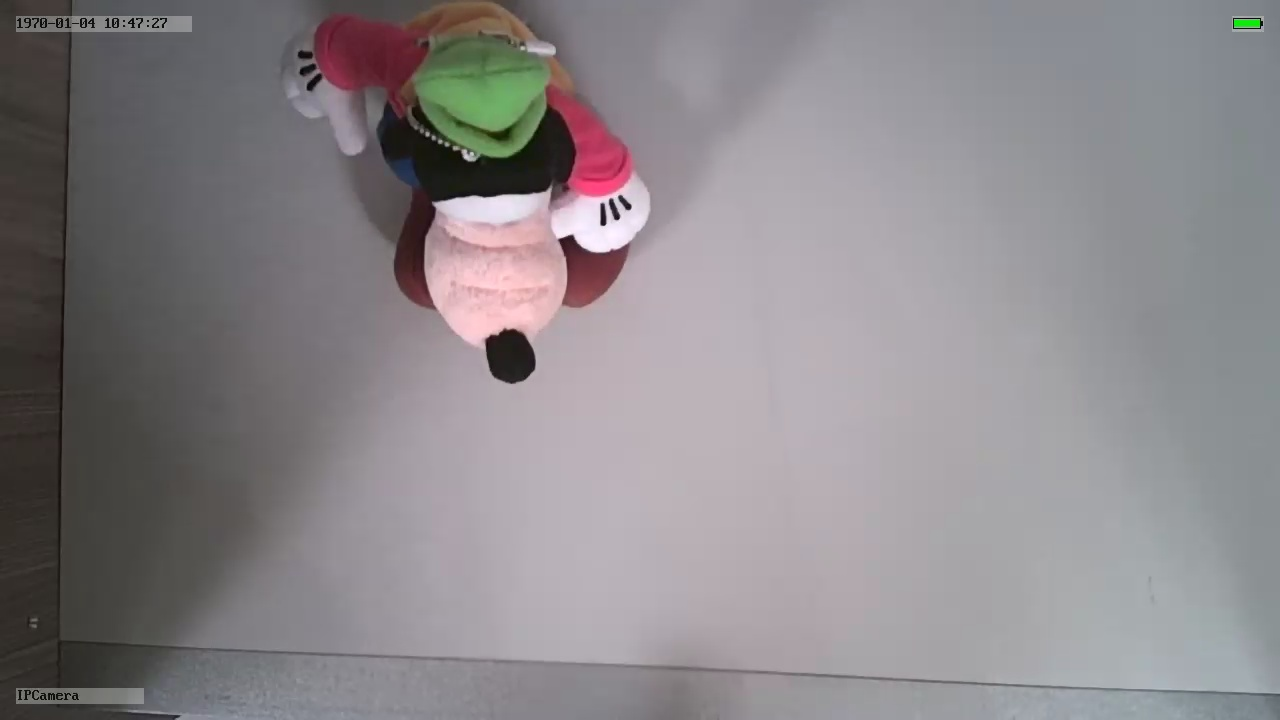goofy: (274, 7, 648, 385)
